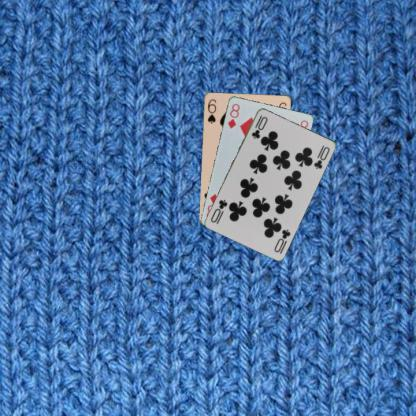10c: (249, 112, 269, 140), (272, 227, 292, 253)
6s: (205, 96, 217, 125)
8d: (225, 101, 241, 130)
